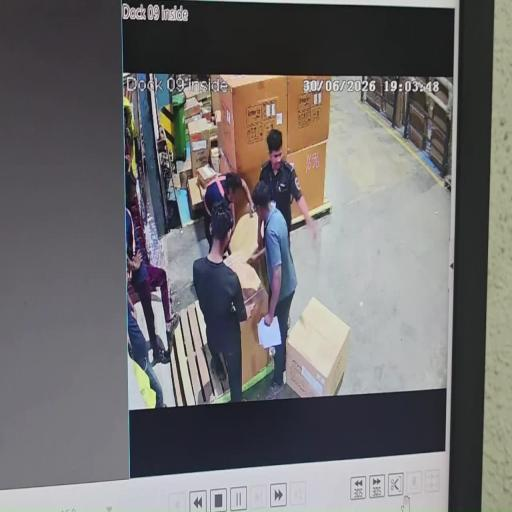carton: (208, 74, 288, 178), (285, 296, 351, 398), (283, 139, 328, 219), (226, 171, 266, 259), (287, 76, 331, 154), (226, 253, 270, 325), (234, 315, 274, 390), (190, 140, 210, 174), (188, 174, 206, 209), (196, 163, 219, 187), (172, 162, 191, 191), (191, 117, 210, 141), (184, 99, 200, 120), (184, 80, 200, 100)
pallet: (167, 303, 275, 407), (290, 196, 334, 236)
person: (247, 180, 298, 400), (192, 202, 248, 402), (124, 164, 179, 362), (257, 128, 319, 249), (201, 172, 255, 258), (127, 291, 165, 411)
